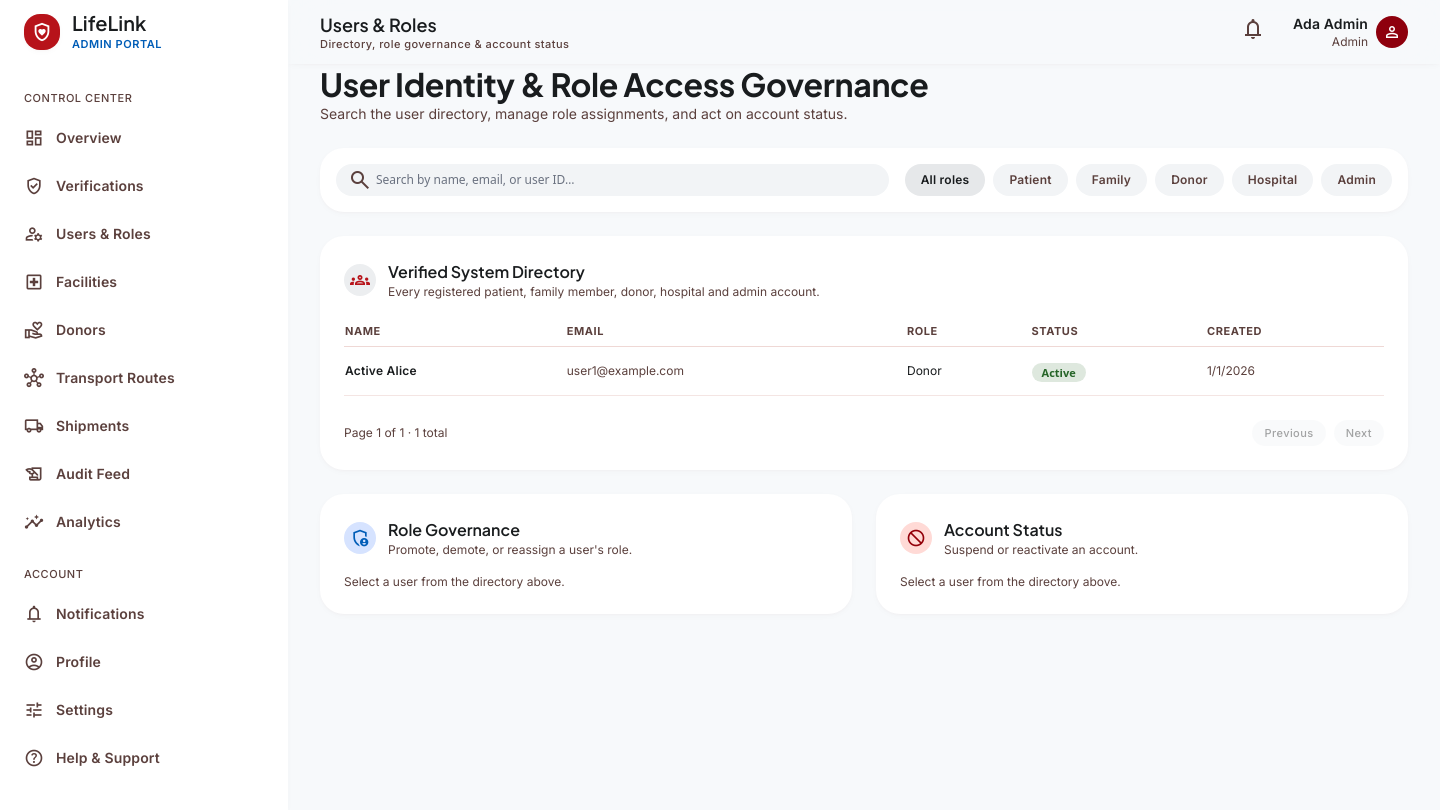
UserManagement -- suspend/reactivate flow › opens the suspend console (not the reactivate one) when an active user is selected
Click the text "Active Alice" at (381, 370), box [344,346,566,396]
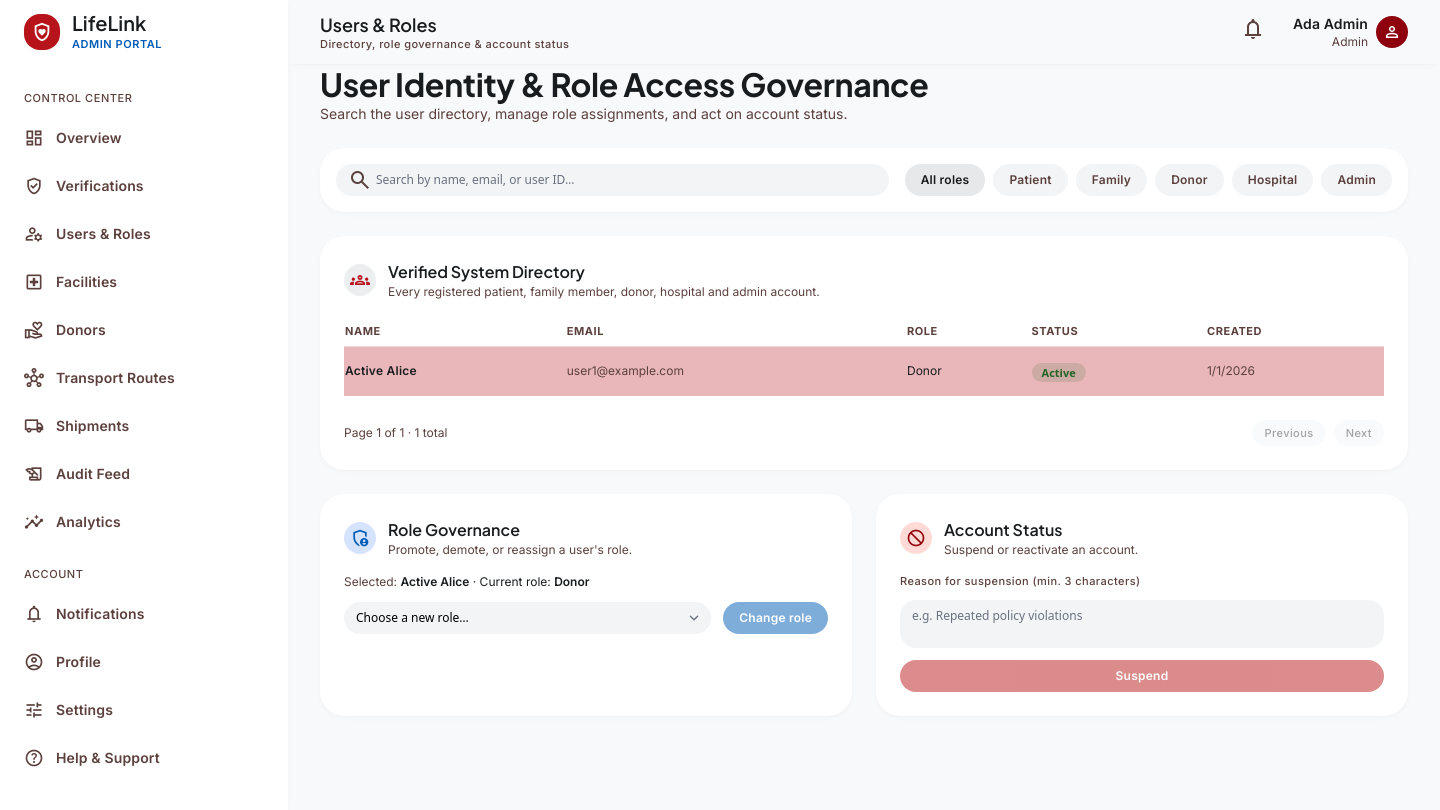
Check: the text box labelled "Reason for suspension (min. 3 characters)" is shown, box [900,600,1384,648]
